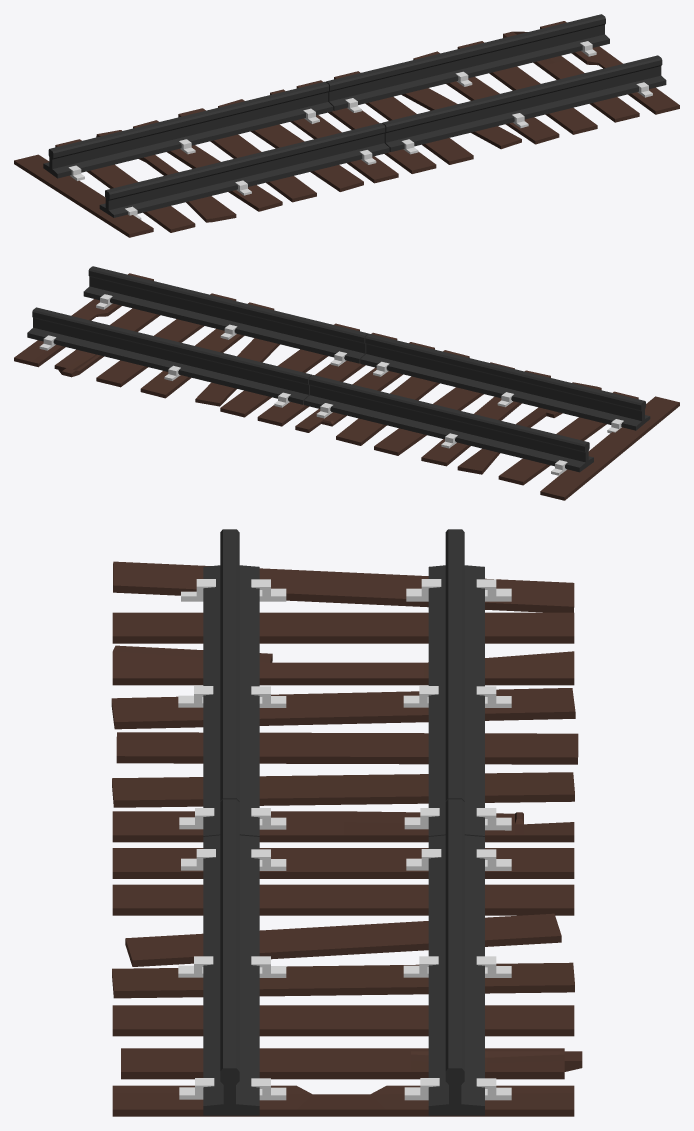
File: tory_nie-zniszczone.fbx
3 views of the same model, one above another, from view 1: azimuth 30°, elevation 25°; view 2: azimuth 150°, elevation 25°; view 3: azimuth 270°, elevation 25° (orthographic). The views are drawn at different scales.
Parts seen in each view (by area): view 1: Cube.071; view 2: Cube.071; view 3: Cube.071.
Boxes of the visible parts, x1=… form: Cube.071: x1=14, y1=14, x2=679, y2=237; Cube.071: x1=14, y1=266, x2=679, y2=500; Cube.071: x1=111, y1=529, x2=582, y2=1116.
Size of the model in its own units: 5.31 by 0.3078 by 1.94.
